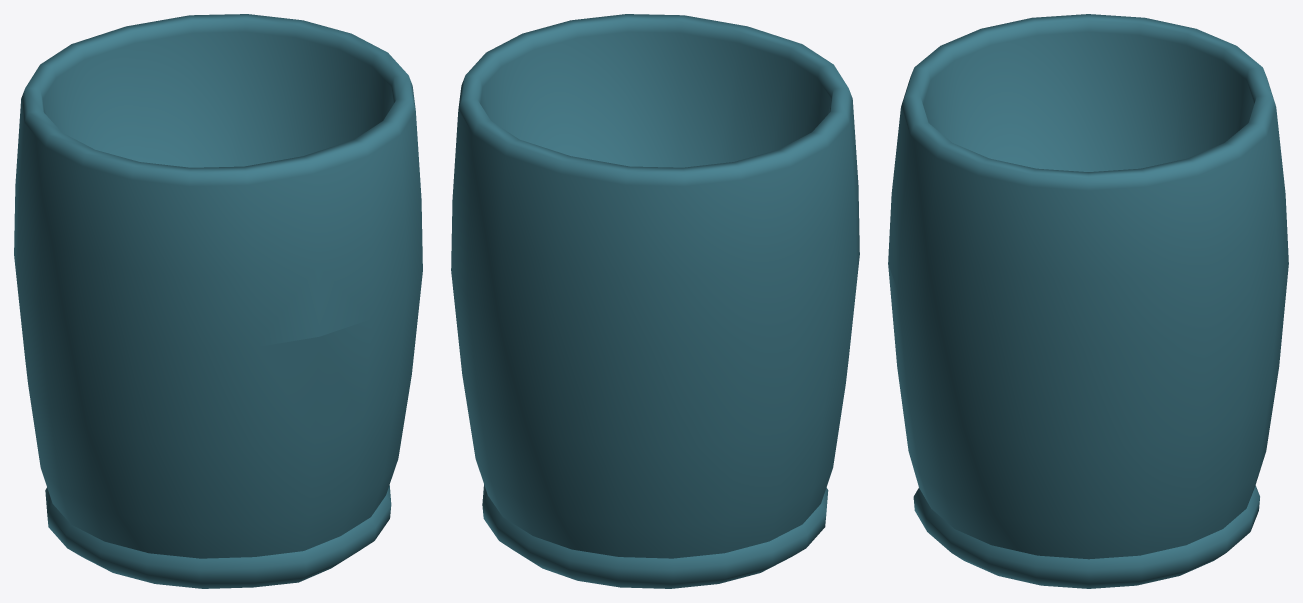
File: SM_Pencil_Holder.fbx
3 renders of one model, left to right at view 1: azimuth 30°, elevation 25°; view 2: azimuth 150°, elevation 25°; view 3: azimuth 270°, elevation 25°, orthographic.
Parts seen in each view (by area): view 1: Pencil_holder; view 2: Pencil_holder; view 3: Pencil_holder.
Boxes of the visible parts, bbox=[...] form: Pencil_holder: bbox=[14, 14, 422, 588]; Pencil_holder: bbox=[451, 14, 859, 588]; Pencil_holder: bbox=[888, 14, 1288, 588].
Bounding box in the file's own units: 14.25 × 16.39 × 13.95.
